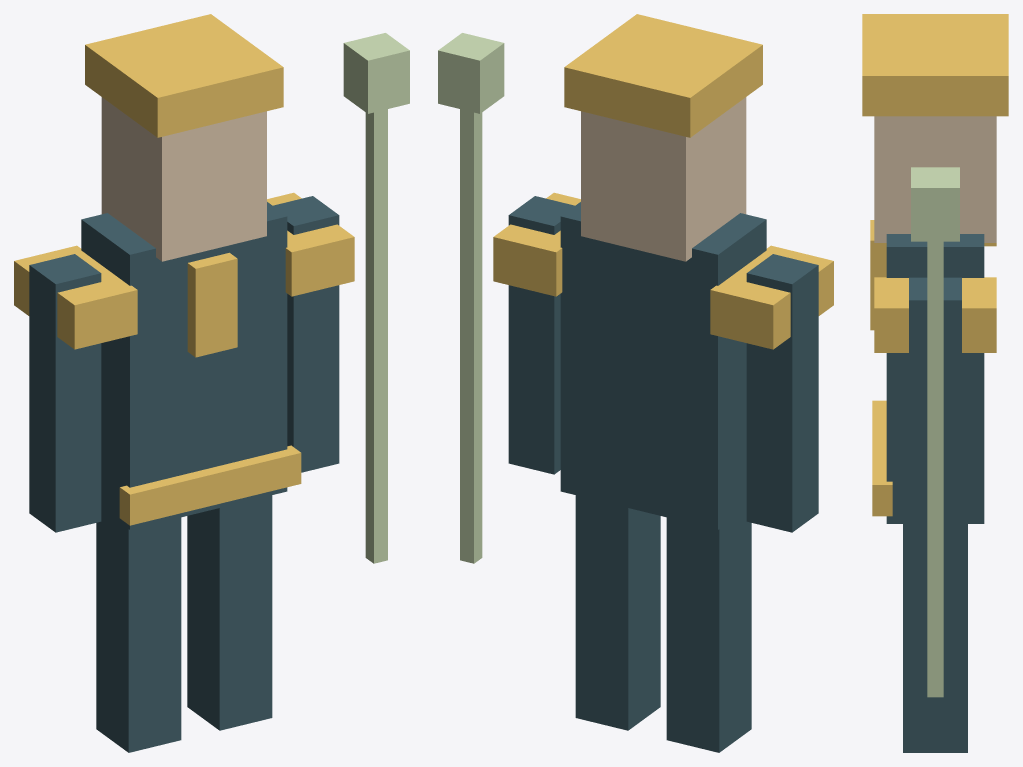
File: 19_cassian_chromabell_navigator_near.glb
The picture shows the model from 3 angles, left to right: view 1: azimuth 30°, elevation 25°; view 2: azimuth 150°, elevation 25°; view 3: azimuth 270°, elevation 25°; orthographic projection.
Parts seen in each view (by area): view 1: Cassian Chromabell, Navigator near; view 2: Cassian Chromabell, Navigator near; view 3: Cassian Chromabell, Navigator near.
Part boxes in pixels (left/top/right/bottom): Cassian Chromabell, Navigator near: left=14, top=14, right=409, bottom=752; Cassian Chromabell, Navigator near: left=438, top=14, right=833, bottom=752; Cassian Chromabell, Navigator near: left=862, top=14, right=1008, bottom=752.
Bounding box in the file's own units: 0.9362 × 1.68 × 0.332.
